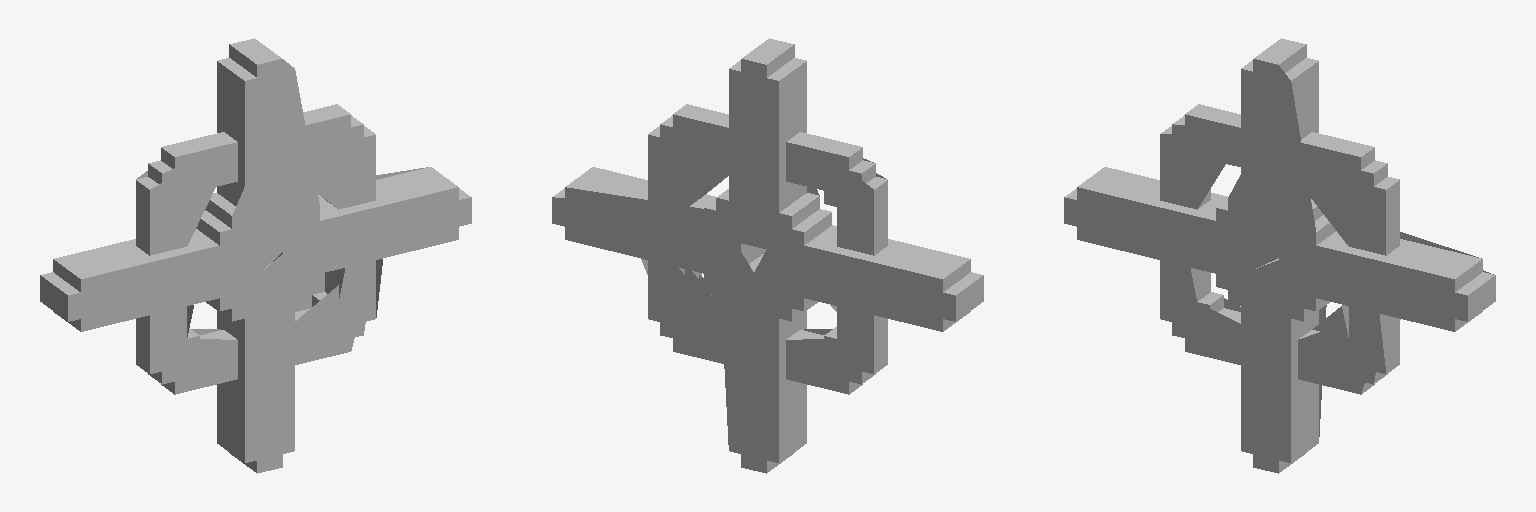
File: Caliber.obj
3 views of the same model, side by side, from view 1: azimuth 30°, elevation 25°; view 2: azimuth 150°, elevation 25°; view 3: azimuth 330°, elevation 25° (orthographic).
Visible parts, largest first — view 1: Caliber_Plane.051; view 2: Caliber_Plane.051; view 3: Caliber_Plane.051.
Part boxes in pixels (x1,y1,x2,y2): Caliber_Plane.051: (40, 38, 471, 473); Caliber_Plane.051: (552, 38, 983, 473); Caliber_Plane.051: (1064, 38, 1495, 473).
Bounding box in the file's own units: 1.67 × 1.61 × 0.2.